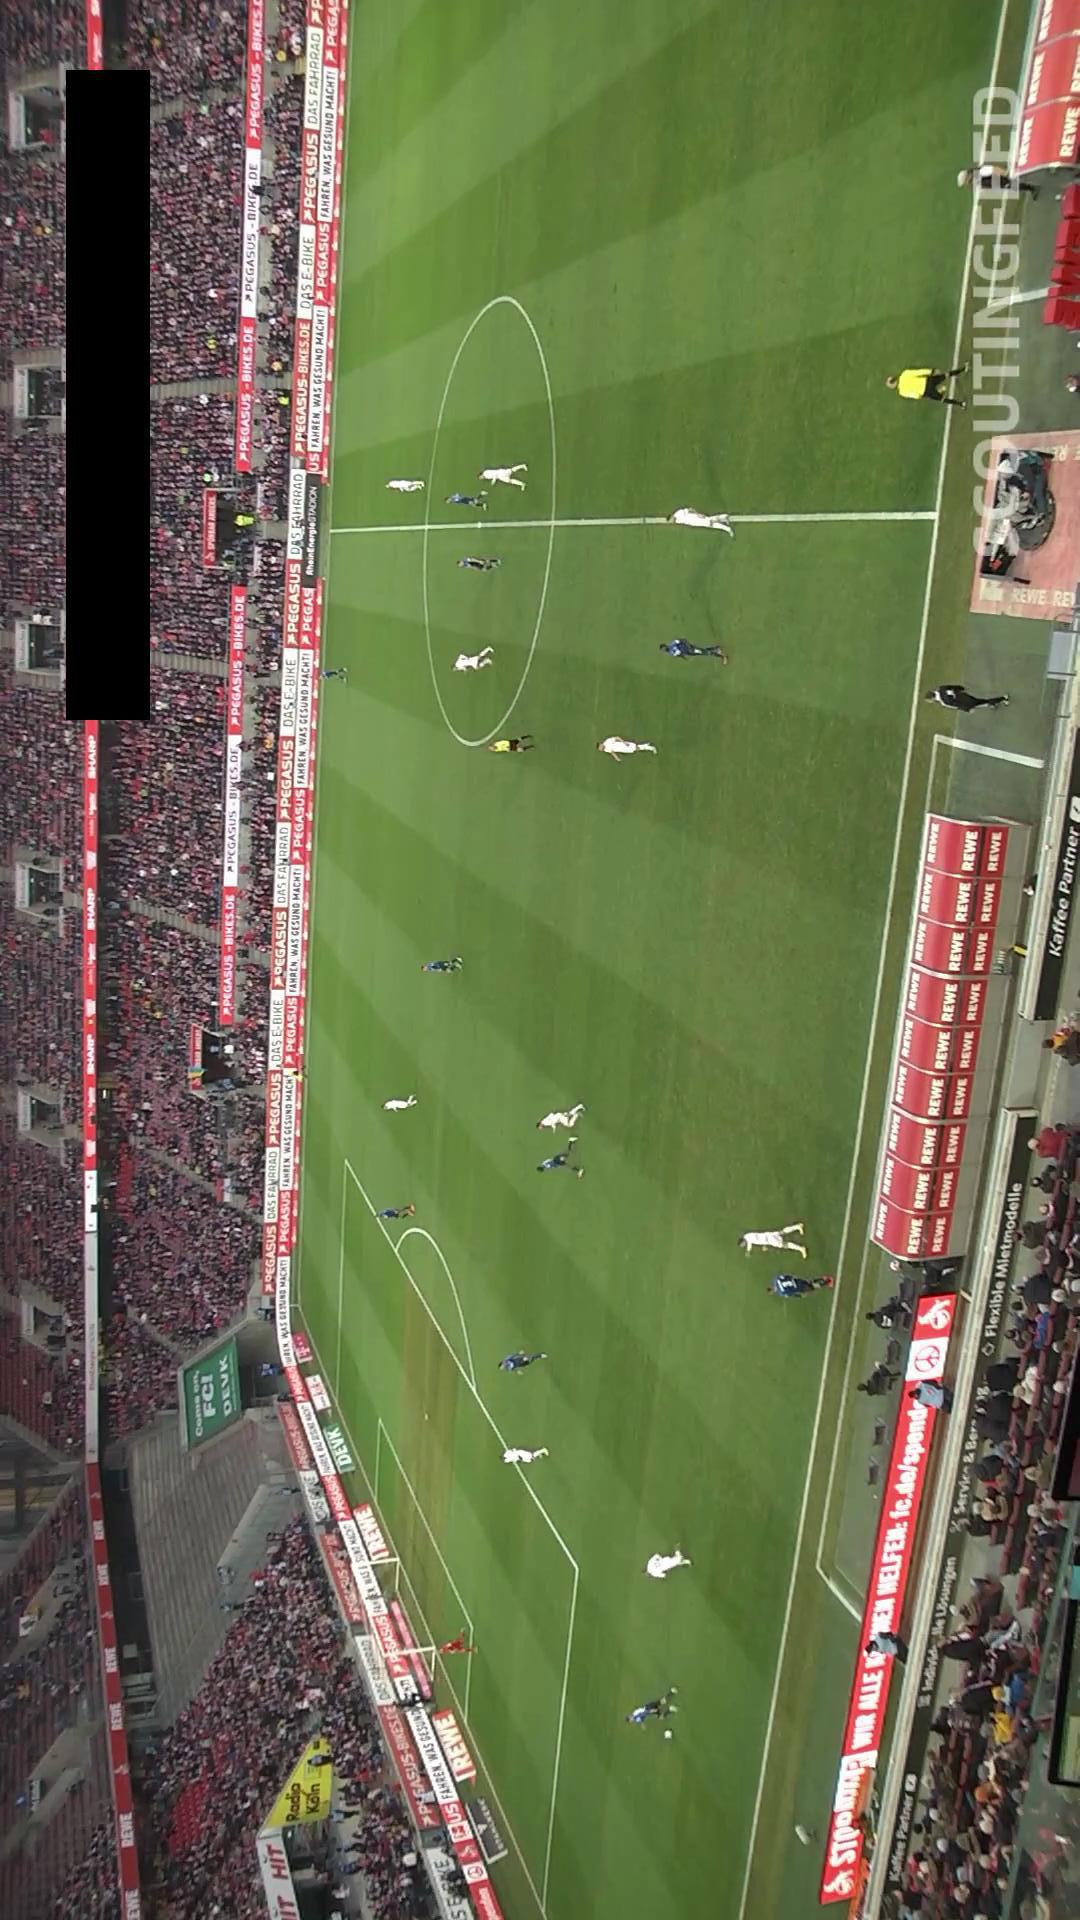ball: (663, 1730, 674, 1740)
goalkeeper: (437, 1626, 480, 1655)
player: (736, 1222, 807, 1260), (623, 1685, 680, 1728), (665, 507, 736, 539), (535, 1138, 584, 1179), (640, 1544, 692, 1579), (658, 638, 727, 664), (595, 736, 658, 764), (764, 1274, 834, 1299), (534, 1103, 586, 1133), (476, 463, 527, 490), (496, 1350, 549, 1374), (451, 646, 494, 673), (499, 1446, 549, 1464), (443, 492, 487, 511), (455, 555, 499, 571), (420, 957, 463, 973), (380, 1094, 418, 1111), (376, 1204, 415, 1220), (385, 479, 425, 493), (318, 667, 347, 682)
referee: (885, 363, 969, 410), (485, 734, 536, 753), (282, 1067, 310, 1083)
